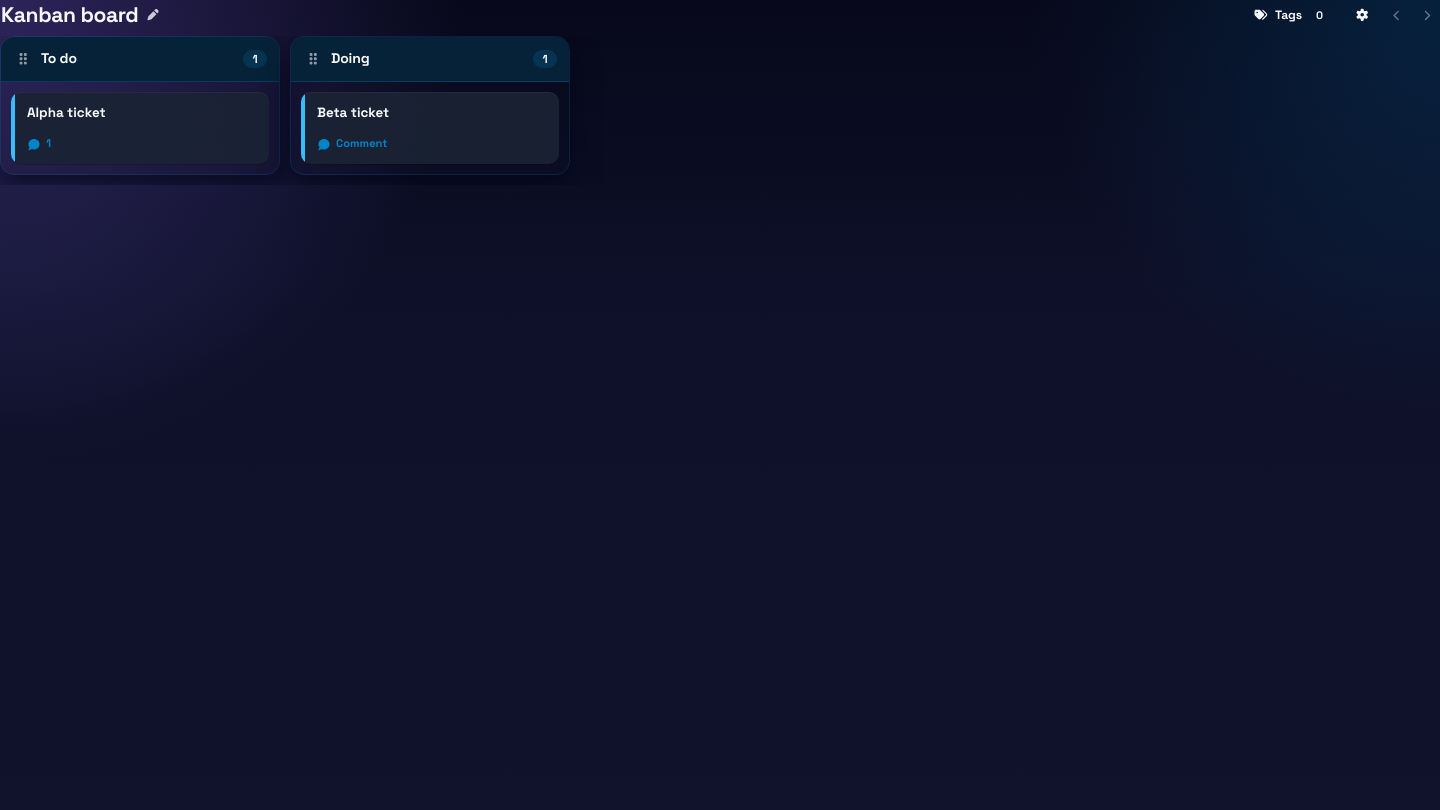
Test: KanbanBoard › reads and adds comments to a ticket
Step 1. Click the button named "Open ticket for Alpha ticket, 1 Comment" → (39, 144), box [27, 136, 51, 153]
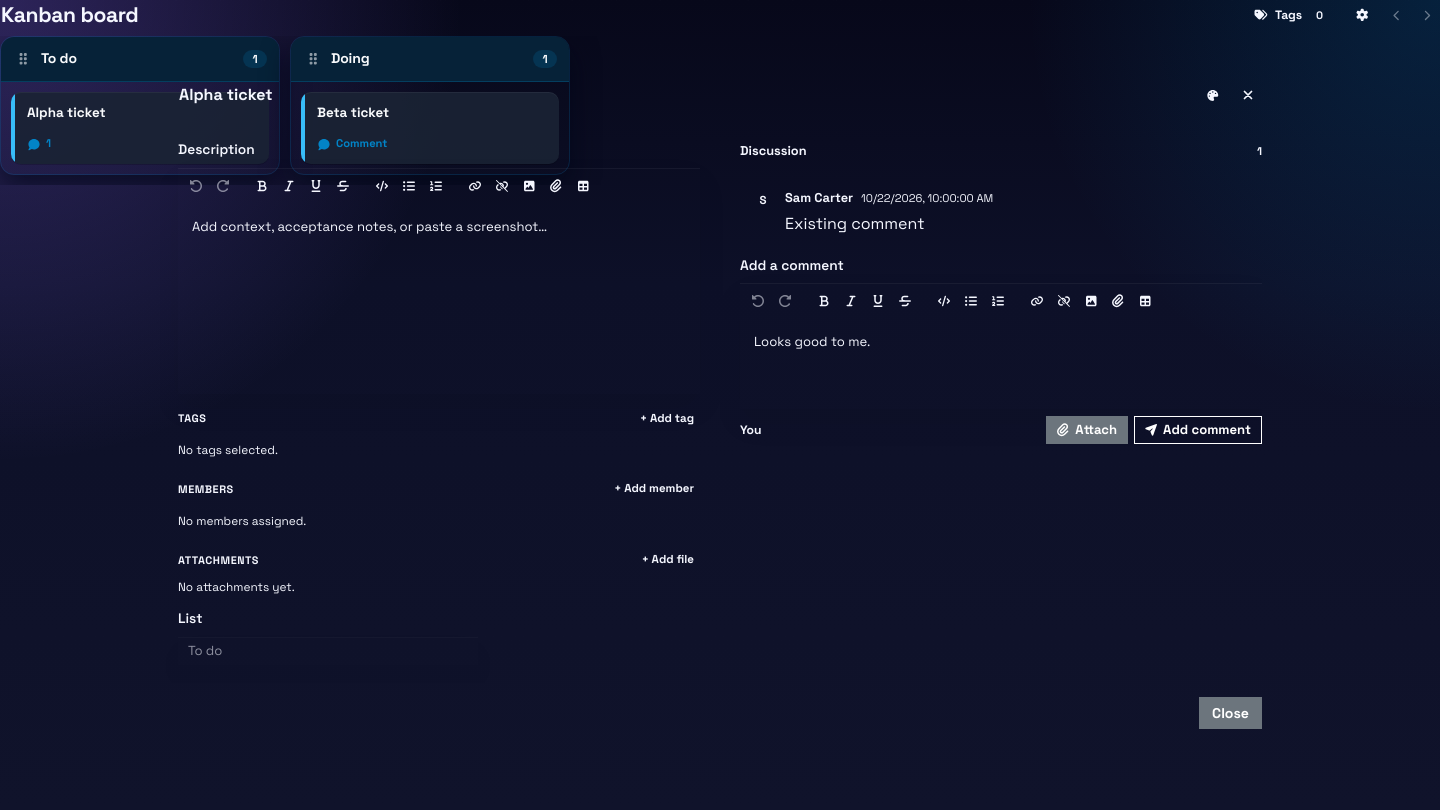
Expected: the dialog is shown
Expected: the text "Existing comment" is shown, [785, 213, 924, 234]
Step 2. Click the button "Add comment" → (1198, 430), box [1134, 416, 1262, 444]
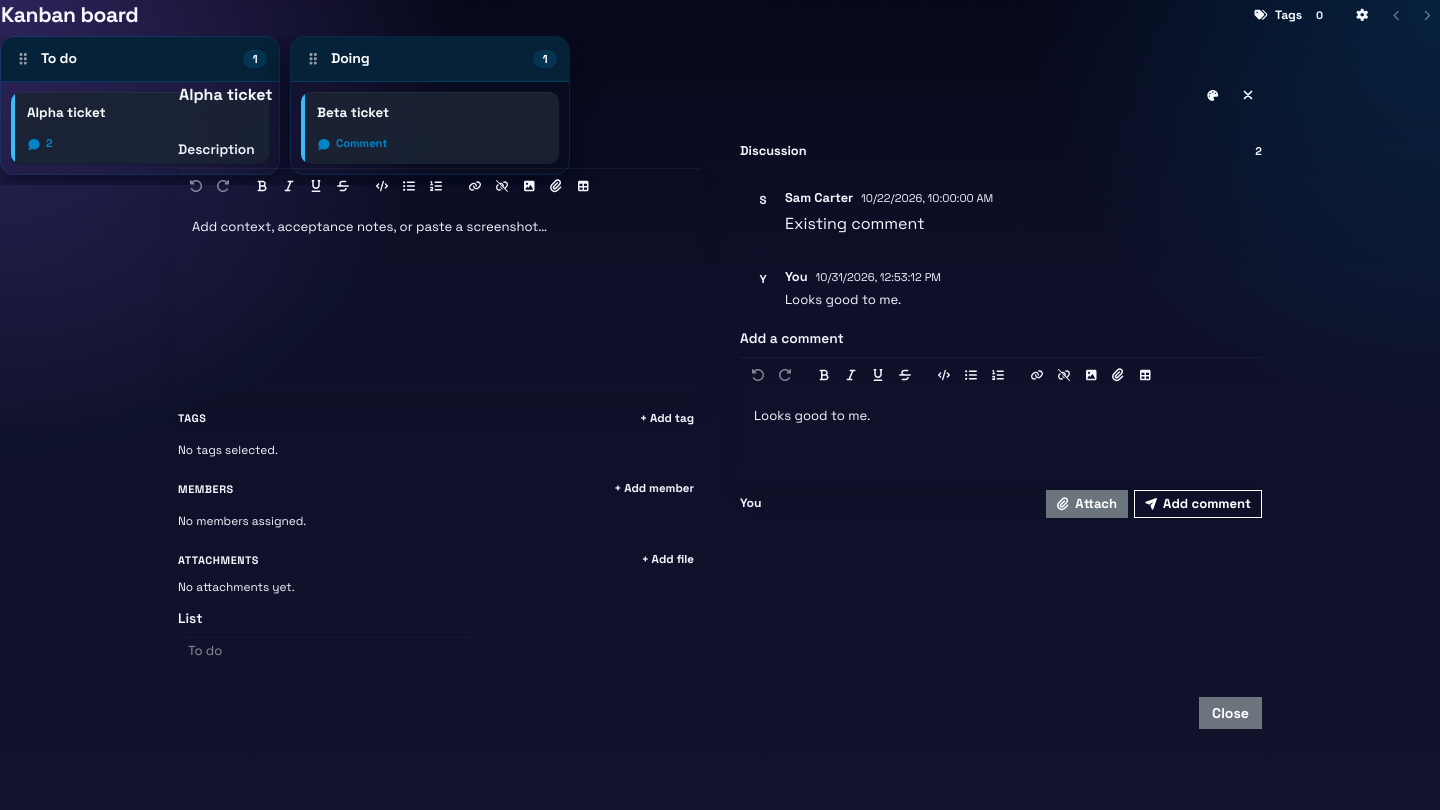
Expected: the list named "Comments" shows "Looks good to me.", [785, 291, 901, 308]
Expected: the button named "Open ticket for Alpha ticket, 2 Comments" is shown, [27, 136, 53, 153]
